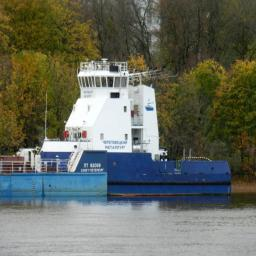tugboat: (31, 58, 238, 203)
